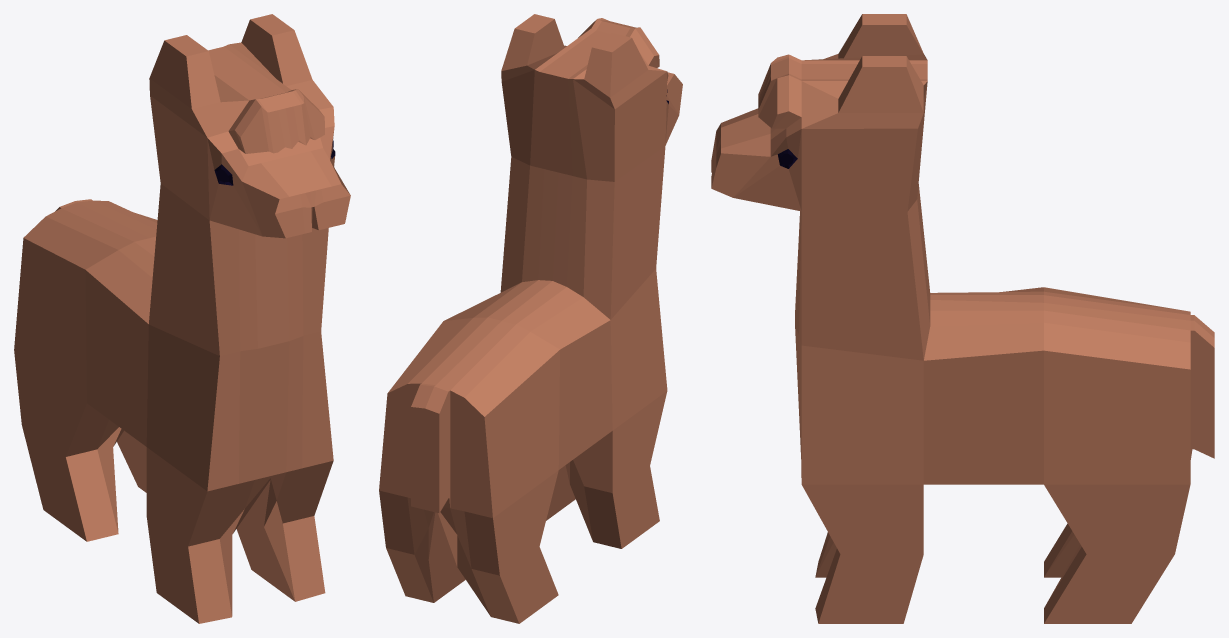
File: alpaca2.glb
3 views of the same model, side by side, from view 1: azimuth 30°, elevation 25°; view 2: azimuth 150°, elevation 25°; view 3: azimuth 270°, elevation 25° (orthographic). The views are drawn at different scales.
Parts seen in each view (by area): view 1: Cube; view 2: Cube; view 3: Cube.
Part boxes in pixels (x1,y1,x2,y2): Cube: (14,14,350,623); Cube: (379,14,682,623); Cube: (711,14,1214,623).
Bounding box in the file's own units: 2.05 × 8.31 × 6.86.
